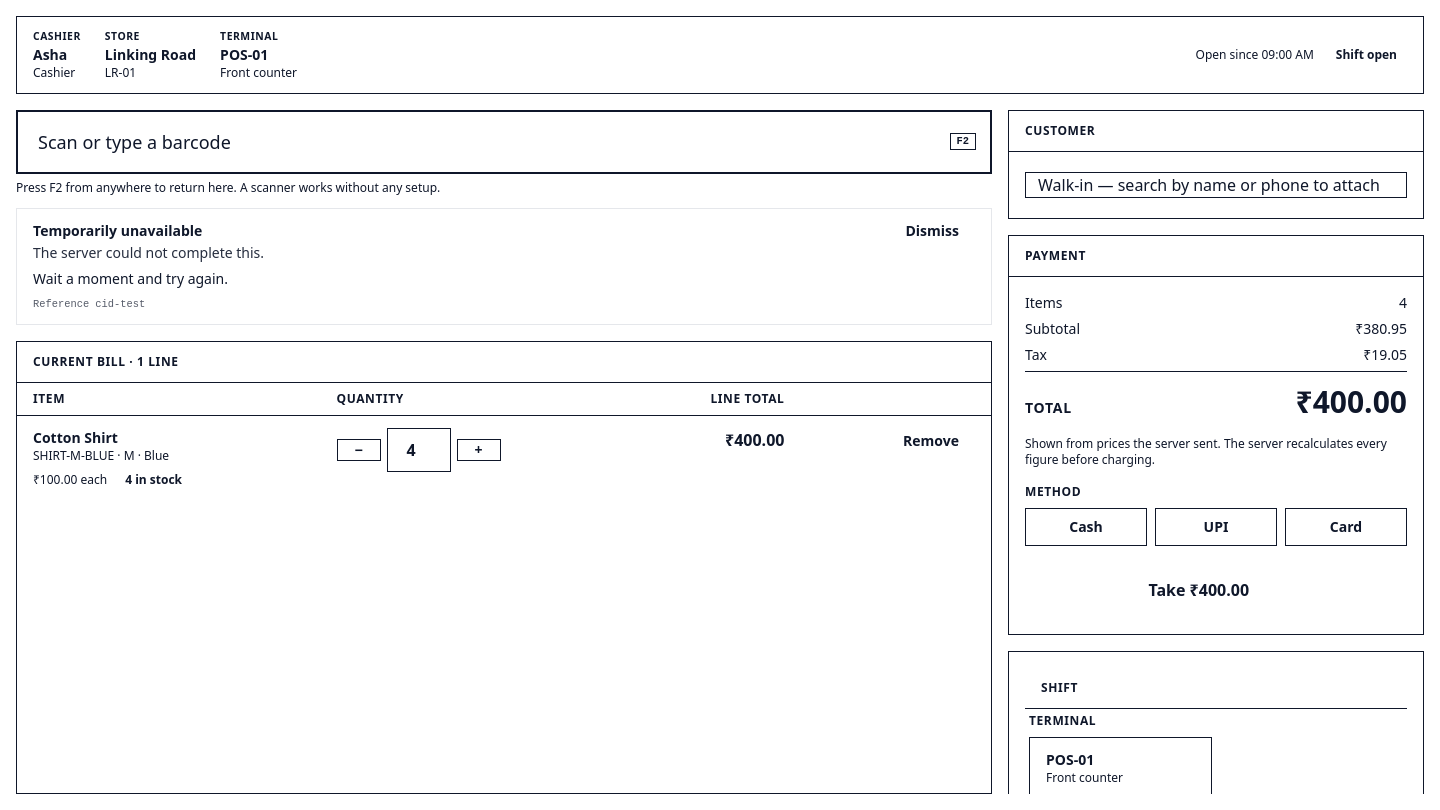
Test: stock is shown, never used to refuse › shows a never-counted figure as uncounted rather than as zero
Type "8901234567890" into the field labelled "Scan or type a barcode" at (504, 142), box [16,110,992,174]
Then press Enter
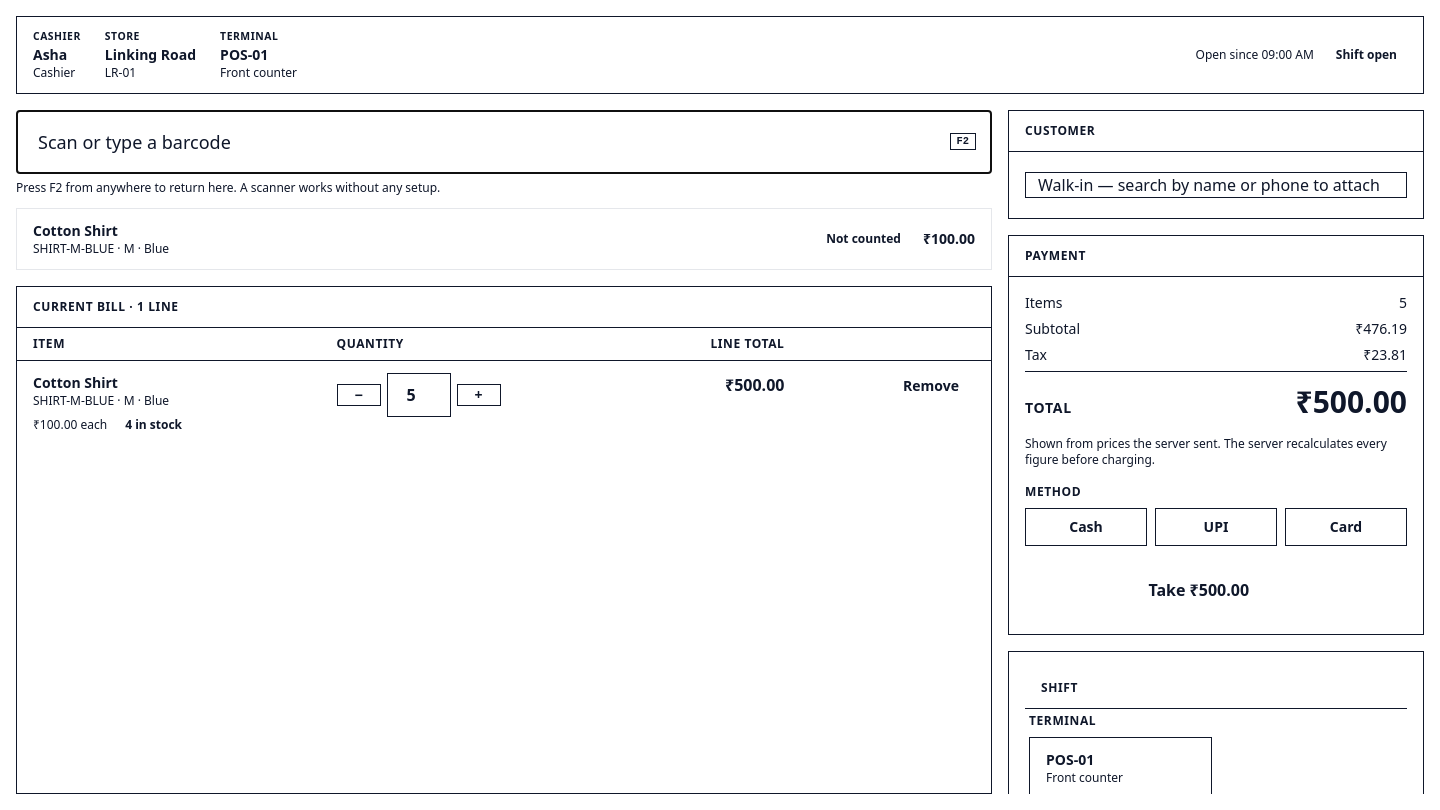
Expected: the text "Not counted" is shown, [826,230,901,247]
